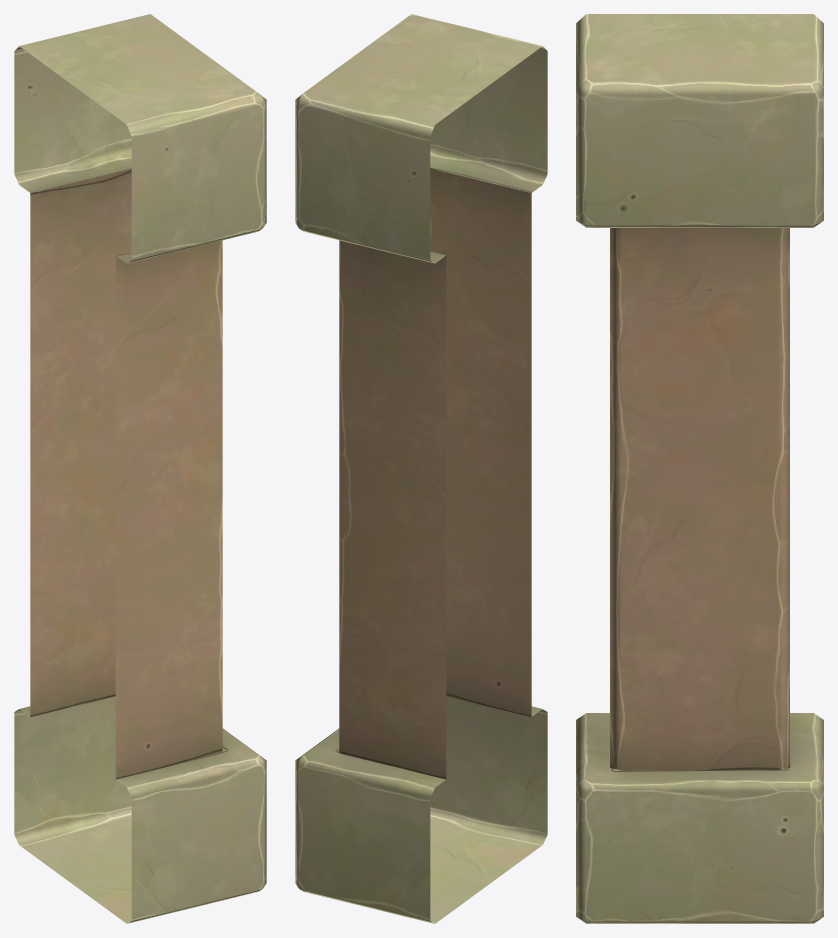
Rendered from SM_Wall_Pillar_Short.fbx.
3 renders of one model, left to right at view 1: azimuth 30°, elevation 25°; view 2: azimuth 150°, elevation 25°; view 3: azimuth 270°, elevation 25°, orthographic. The views are drawn at different scales.
Visible parts, largest first — view 1: SM_Wall_Pillar_Short_LOD0; view 2: SM_Wall_Pillar_Short_LOD0; view 3: SM_Wall_Pillar_Short_LOD0.
Boxes of the visible parts, bbox=[...] form: SM_Wall_Pillar_Short_LOD0: bbox=[14, 14, 266, 923]; SM_Wall_Pillar_Short_LOD0: bbox=[295, 14, 547, 923]; SM_Wall_Pillar_Short_LOD0: bbox=[576, 14, 823, 923].
Bounding box in the file's own units: 27.46 × 40 × 150.
Materials: 1 (1 with a texture image).
